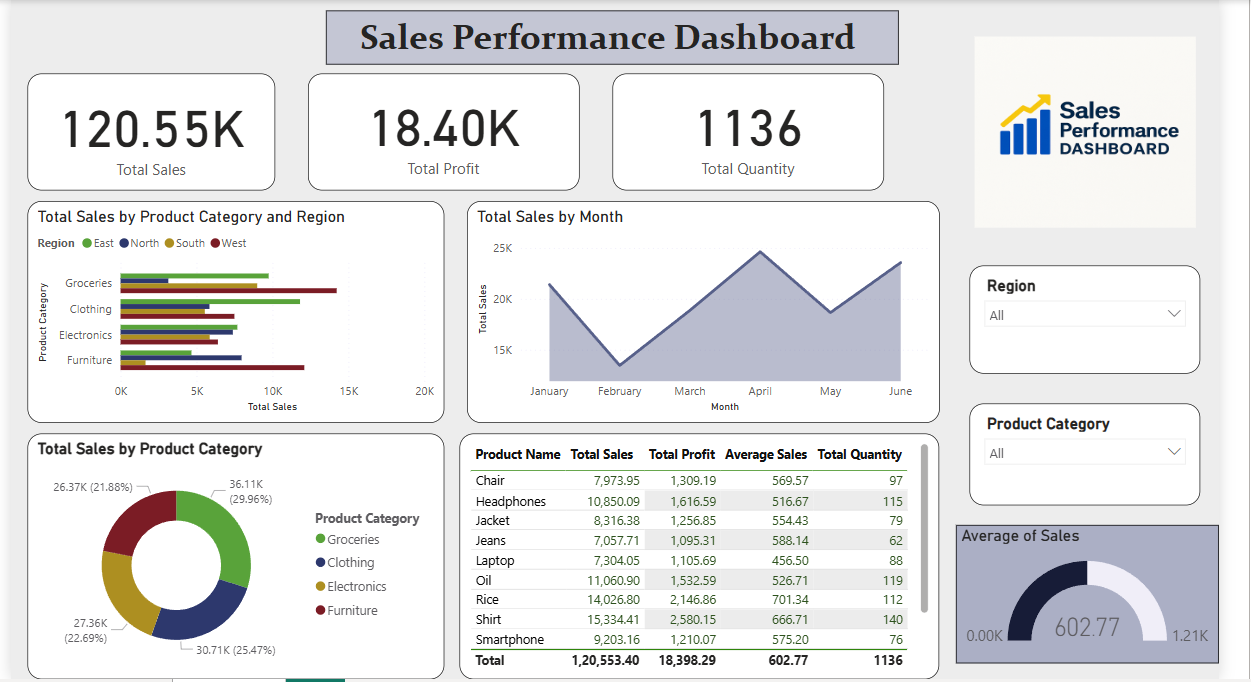

Layout of this report page (visuals, bound fields, positions):
{"tool":"powerbi","page":{"name":"Page 1","canvas":[1280,720],"ordinal":0},"visuals":[{"type":"card","fields":{"Values":["Sum(Sheet1.Sales)"]},"box":[17.5,77.9,262.5,124.1],"z":0},{"type":"card","fields":{"Values":["Sum(Sheet1.Profit)"]},"box":[314.9,77.9,287.9,124.1],"z":1000},{"type":"card","fields":{"Values":["Sum(Sheet1.Quantity)"]},"box":[637.8,77.9,287.9,124.1],"z":2000},{"type":"clusteredBarChart","fields":{"Category":["Sheet1.Product Category"],"Y":["Sum(Sheet1.Sales)"],"Series":["Sheet1.Region"]},"box":[17.5,213.1,442.2,235.4],"z":3000},{"type":"lineChart","fields":{"Y":["Sum(Sheet1.Sales)"],"Category":["Sheet1.Date.Variation.Date Hierarchy.Month"]},"box":[483.5,213.1,501,235.4],"z":4000},{"type":"tableEx","fields":{"Values":["Sheet1.Product Name","Sum(Sheet1.Sales)","Sum(Sheet1.Profit)","Avg(Sheet1.Sales)","Sum(Sheet1.Quantity)"]},"box":[475.6,459.7,509,260.9],"z":5000},{"type":"slicer","fields":{"Values":["Sheet1.Product Category"]},"box":[1016.4,427.9,245,108.2],"z":6000},{"type":"slicer","fields":{"Values":["Sheet1.Region"]},"box":[1016.4,281.5,245,114.5],"z":7000},{"type":"donutChart","title":"Total Sales by Product Category","fields":{"Category":["Sheet1.Product Category"],"Y":["Sum(Sheet1.Sales)"]},"box":[17.5,459.7,442.2,260.9],"z":8000},{"type":"textbox","box":[334,11.1,607.6,57],"z":8001},{"type":"image","box":[1016.4,33.4,245,213.1],"z":8002},{"type":"gauge","fields":{"Y":["Avg(Sheet1.Sales)"]},"box":[1002.1,556.7,278.4,146.3],"z":8003}]}

Visuals, with their boxes in screenshot pixels (x1, y1, x2, y2):
card - Sum(Sheet1.Sales): box(29, 73, 274, 188)
card - Sum(Sheet1.Profit): box(307, 73, 575, 188)
card - Sum(Sheet1.Quantity): box(608, 73, 876, 188)
clusteredBarChart - Sheet1.Product Category x Sum(Sheet1.Sales): box(29, 199, 442, 418)
lineChart - Sum(Sheet1.Sales) x Sheet1.Date.Variation.Date Hierarchy.Month: box(464, 199, 931, 418)
tableEx - Sheet1.Product Name x Sum(Sheet1.Sales): box(457, 429, 931, 672)
slicer - Sheet1.Product Category: box(961, 399, 1189, 500)
slicer - Sheet1.Region: box(961, 263, 1189, 369)
"Total Sales by Product Category" donutChart: box(29, 429, 442, 672)
textbox: box(325, 10, 891, 64)
image: box(961, 31, 1189, 230)
gauge - Avg(Sheet1.Sales): box(948, 519, 1207, 656)
